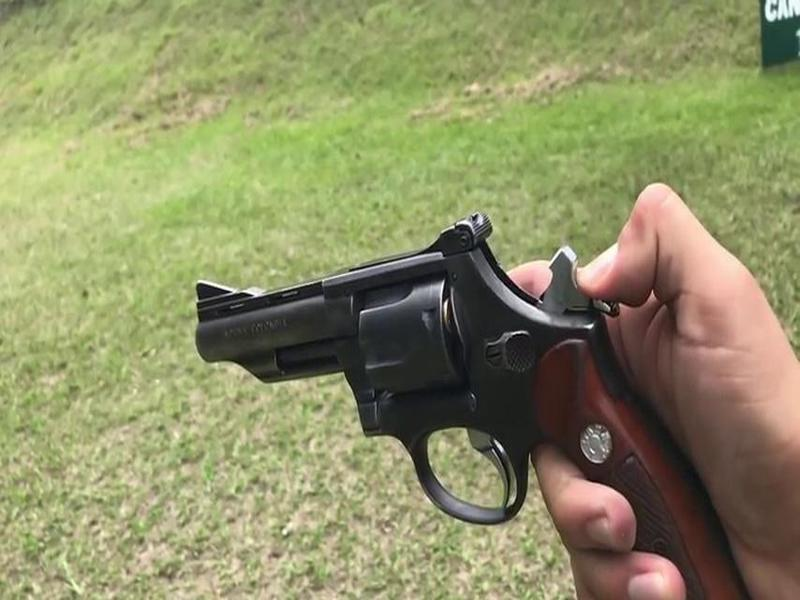Revolver: (184, 186, 741, 564)
